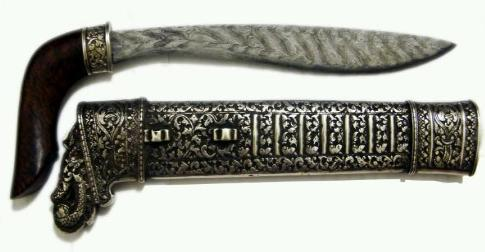facao: (12, 23, 455, 197)
